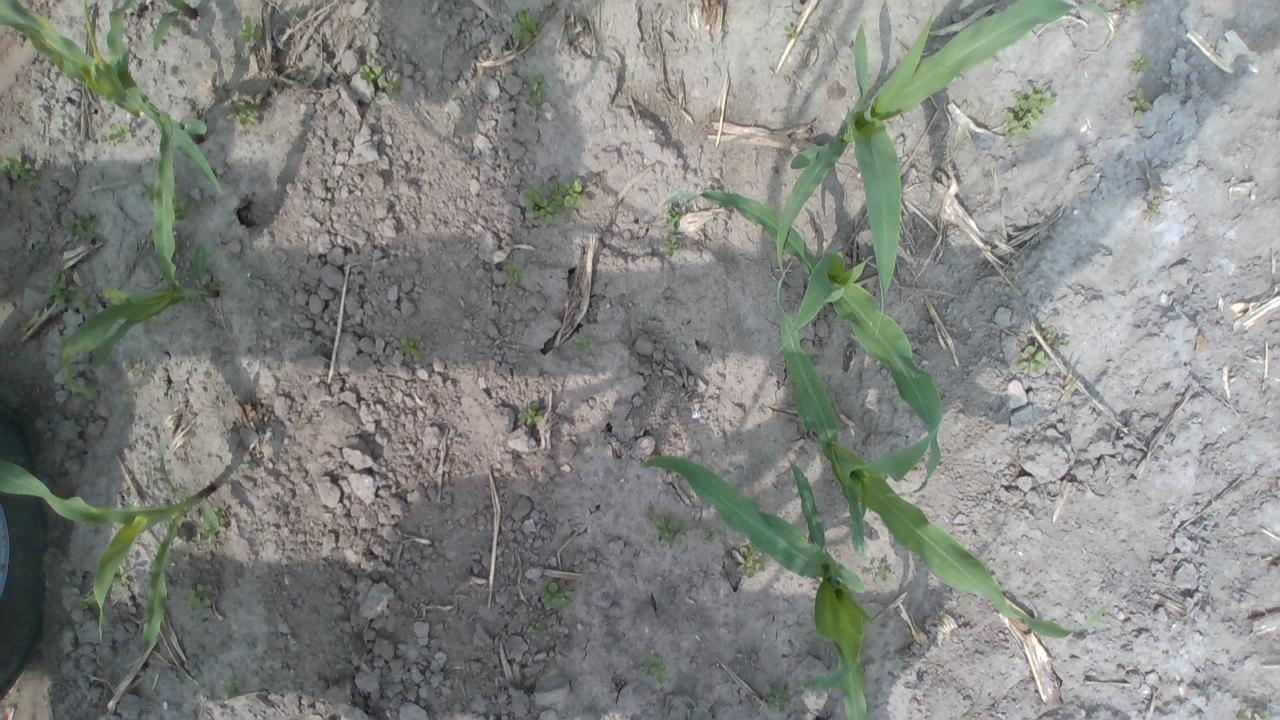Maize: (772, 261, 1118, 643), (661, 185, 950, 500), (774, 0, 1074, 301), (641, 453, 876, 720), (56, 90, 219, 393), (0, 424, 222, 646), (0, 0, 227, 196), (81, 0, 199, 86)
Weeds: (520, 172, 593, 226), (1002, 84, 1056, 140), (43, 271, 96, 314), (644, 503, 694, 546), (0, 149, 40, 190), (507, 5, 542, 50), (517, 72, 551, 109), (539, 578, 576, 610), (1014, 345, 1052, 376), (225, 98, 261, 130), (662, 200, 682, 257), (182, 582, 215, 613), (64, 210, 98, 240), (640, 654, 670, 687), (96, 120, 130, 148), (738, 544, 766, 576), (237, 15, 264, 48), (108, 556, 130, 594), (1128, 88, 1152, 122), (502, 257, 528, 287), (1040, 326, 1071, 351), (764, 684, 791, 712), (396, 334, 424, 360), (867, 559, 893, 584), (517, 401, 543, 426), (171, 193, 192, 222), (1126, 50, 1151, 74), (1236, 704, 1271, 720), (380, 74, 402, 99), (200, 270, 223, 290), (223, 674, 240, 701), (123, 359, 145, 379), (135, 183, 152, 206), (357, 64, 383, 79), (961, 701, 981, 720), (80, 590, 98, 611), (166, 480, 186, 498), (784, 22, 802, 40), (216, 505, 232, 525), (703, 526, 720, 544), (198, 522, 212, 543), (1147, 197, 1162, 216), (120, 386, 139, 401), (576, 336, 592, 352), (526, 622, 546, 634), (1126, 0, 1145, 10), (1262, 388, 1276, 399), (368, 94, 380, 104)
